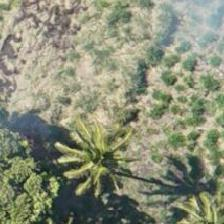coconut_tree: (49, 98, 139, 188)
